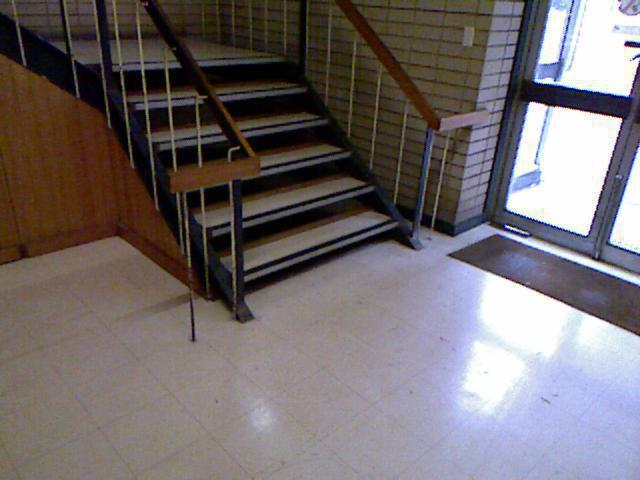Escaleras: (108, 58, 414, 323), (3, 11, 98, 86)
